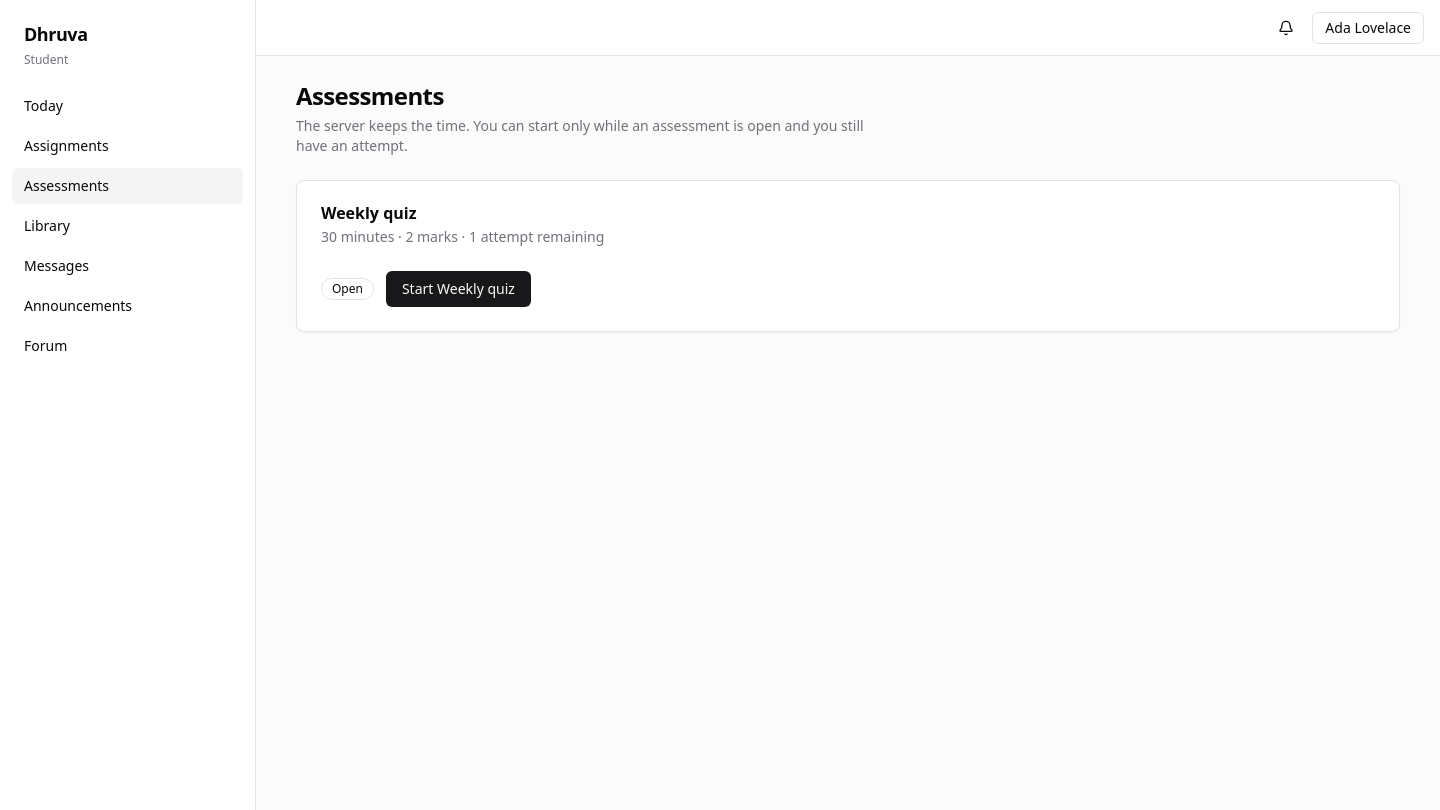
it: assessment attempt › starts an attempt, saves an answer, and submits without showing the answer key
The image size is (1440, 810).
Check: the heading "Assessments" is shown, box left=296, top=79, right=444, bottom=112
Check: the text "30 minutes · 2 marks · 1 attempt remaining" is shown, box left=321, top=227, right=604, bottom=246
Step 1. Click the button "Start Weekly quiz" → (458, 289), box left=386, top=271, right=531, bottom=307
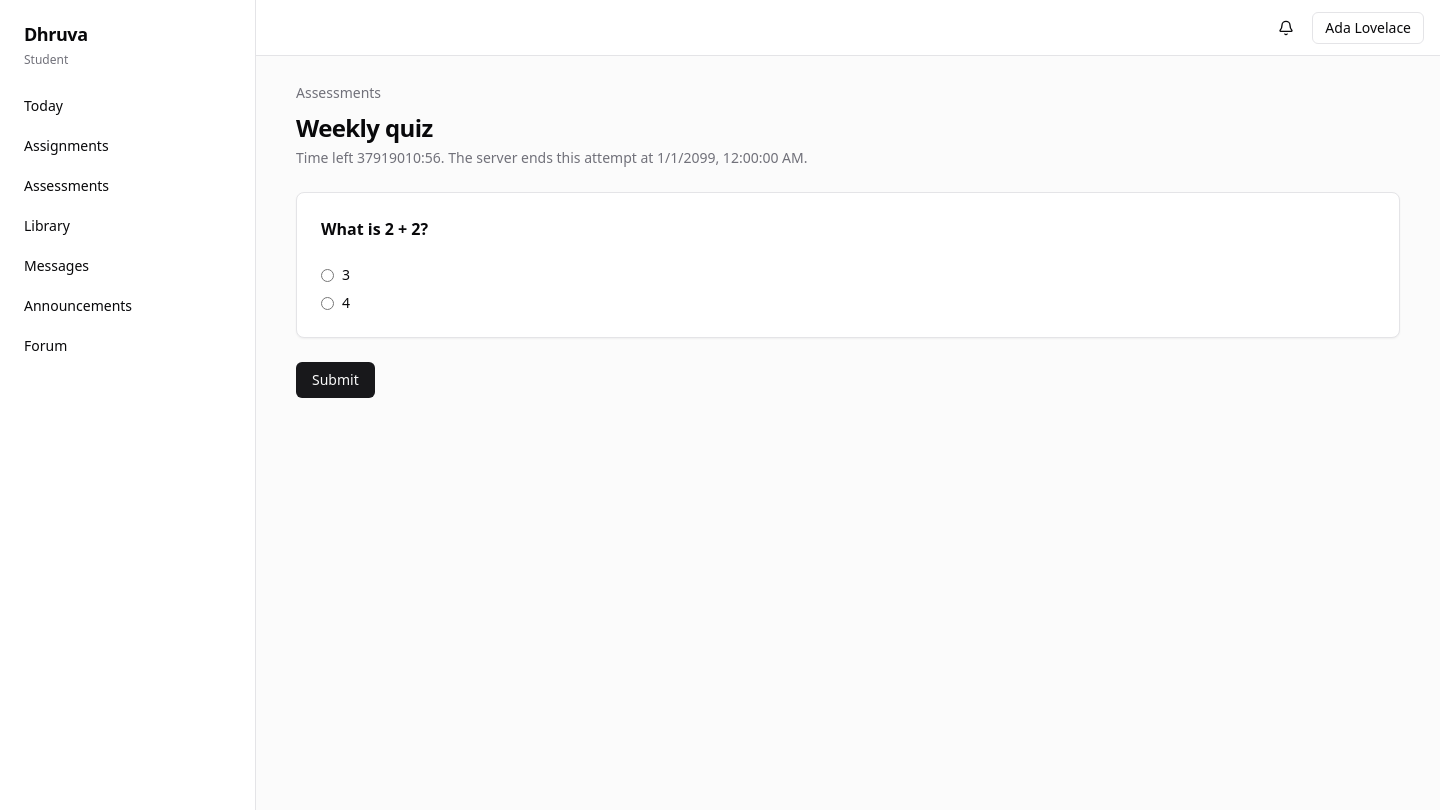
Check: the heading "What is 2 + 2?" is shown, box left=321, top=218, right=428, bottom=240
Step 2. Click the radio button labelled "4" → (328, 303), box left=321, top=296, right=334, bottom=310
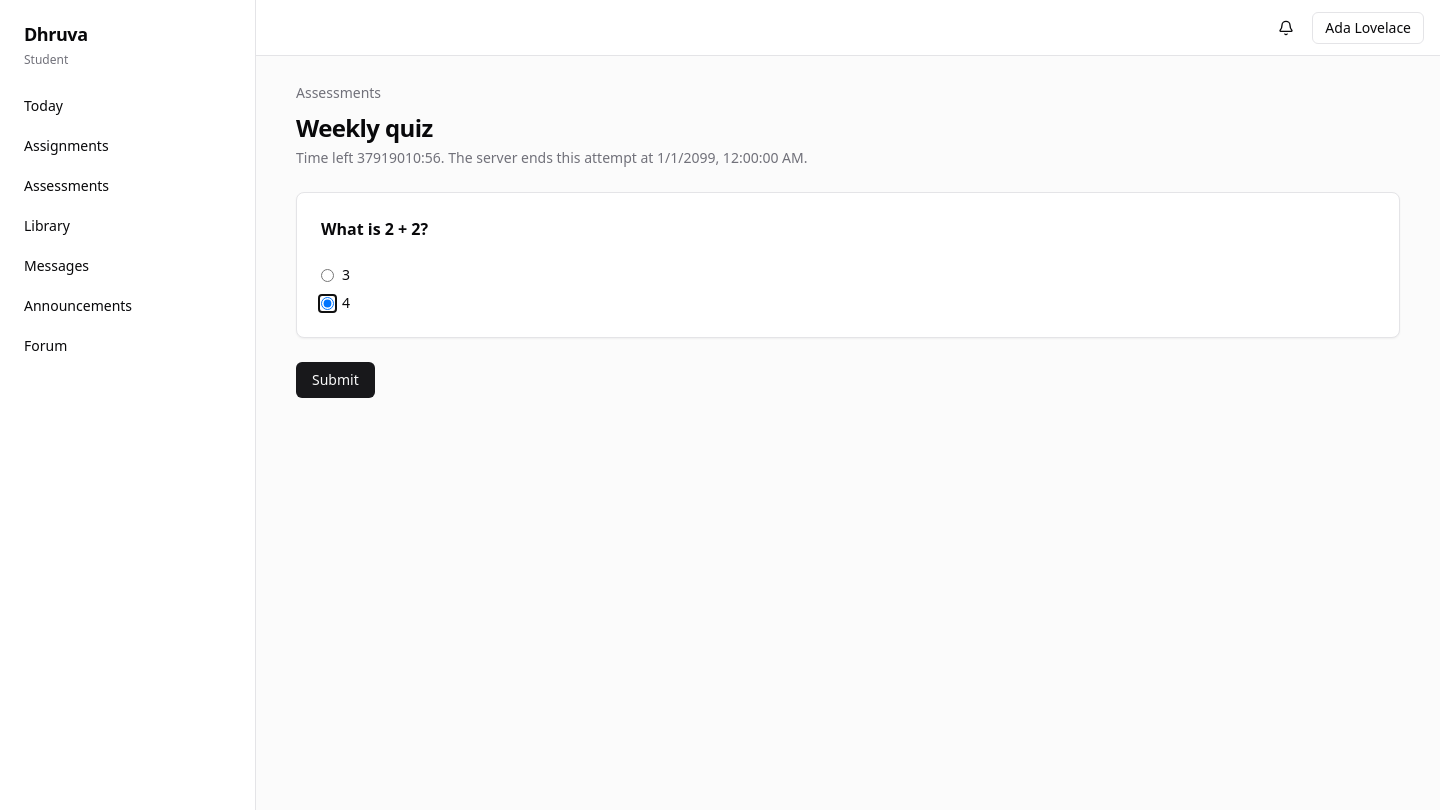
Step 3. Click the button "Submit" → (335, 380), box left=296, top=362, right=375, bottom=398
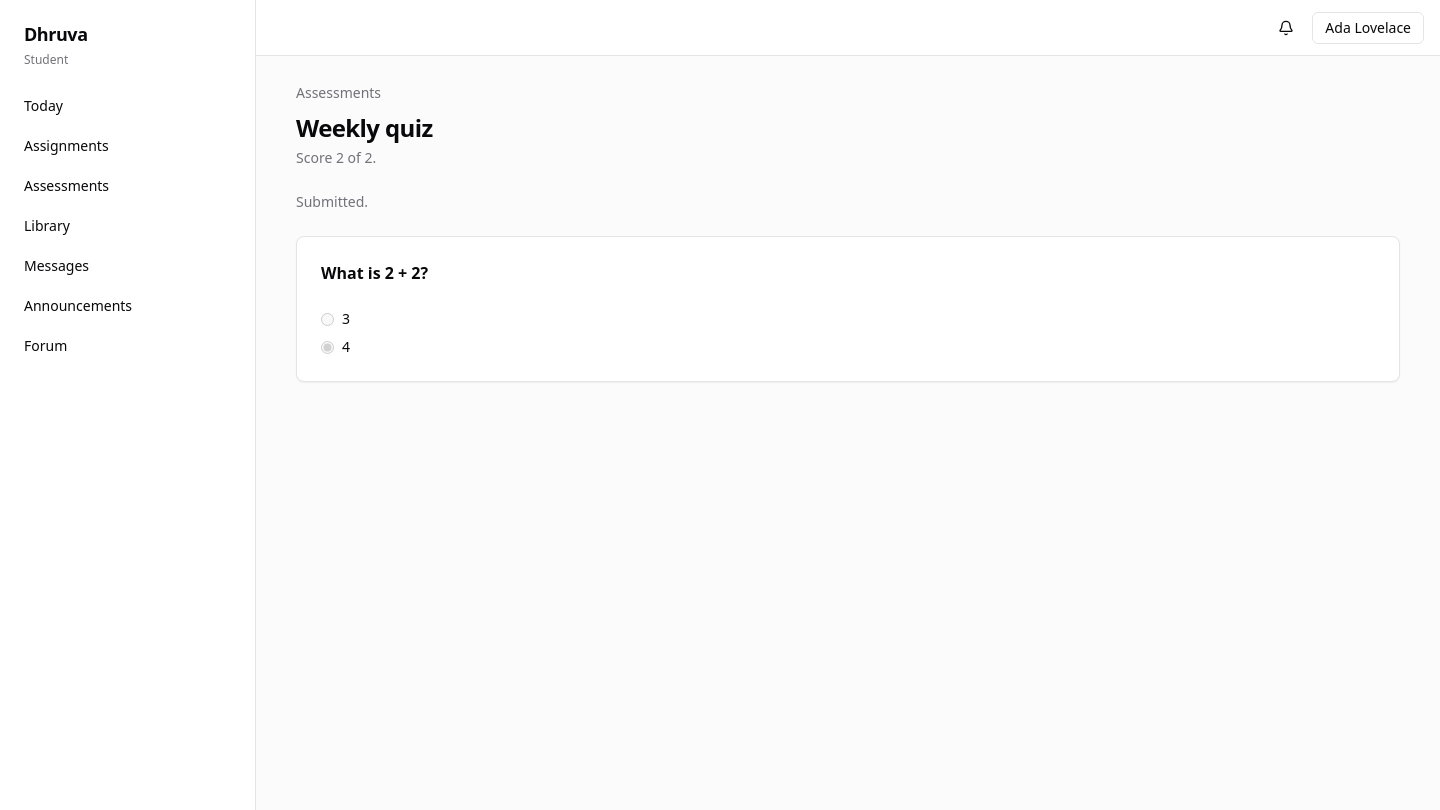
Check: the text "Score 2 of 2." is shown, box left=296, top=148, right=376, bottom=167
